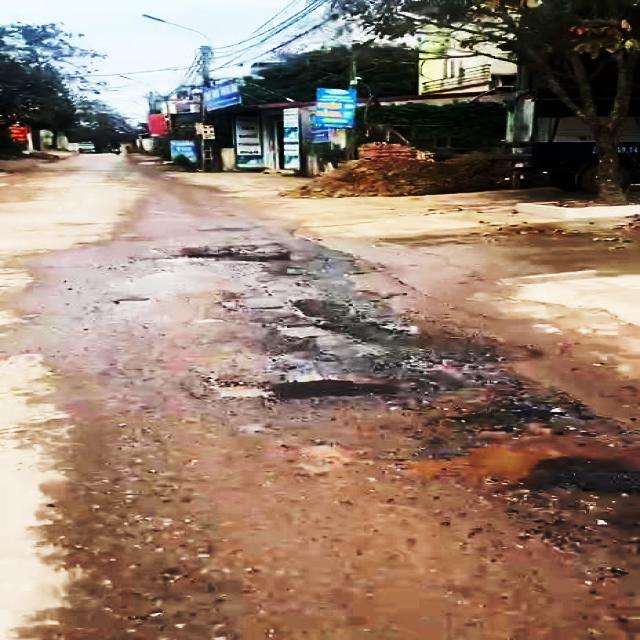pothole: (379, 424, 640, 536), (175, 366, 516, 410), (266, 323, 433, 388), (219, 291, 414, 342), (170, 246, 298, 274), (276, 438, 361, 477)
